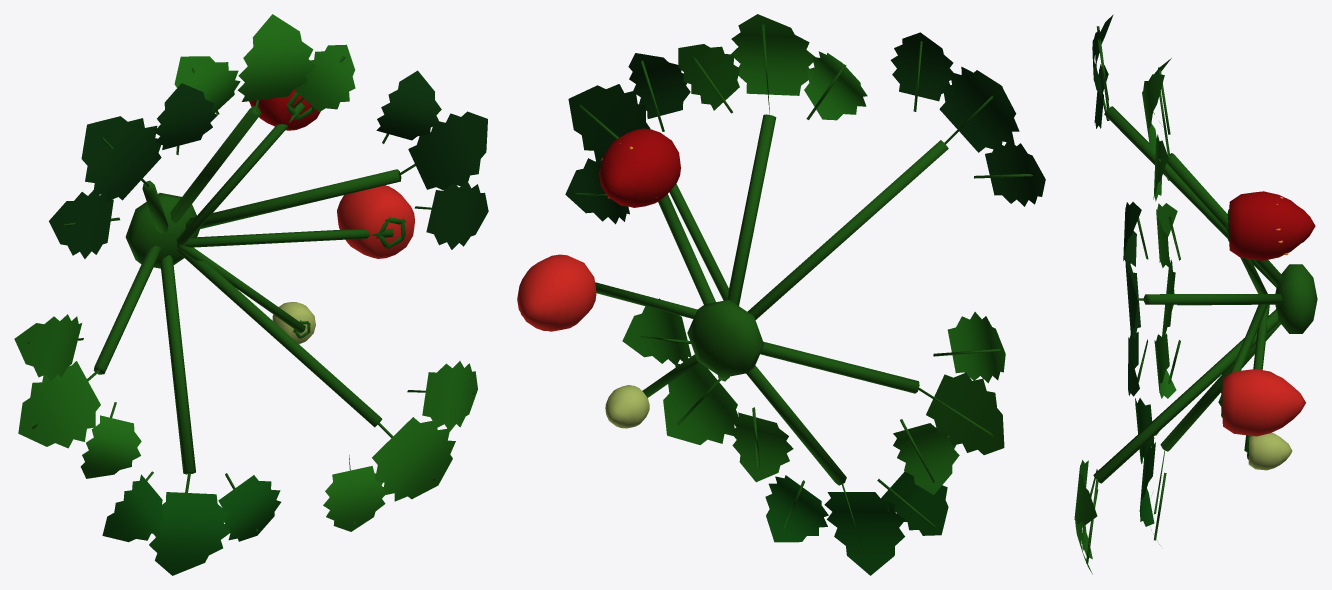
File: plant_variant_09.obj
3 views of the same model, side by side, from view 1: azimuth 30°, elevation 25°; view 2: azimuth 150°, elevation 25°; view 3: azimuth 270°, elevation 25° (orthographic). The views are drawn at different scales.
Visible parts, largest first — view 1: field_export_plant_variant_09; view 2: field_export_plant_variant_09; view 3: field_export_plant_variant_09.
Boxes of the visible parts, x1,y1,x2,y2 form: field_export_plant_variant_09: (14, 14, 488, 575); field_export_plant_variant_09: (517, 14, 1045, 575); field_export_plant_variant_09: (1074, 14, 1317, 574).
Size of the model in its own units: 0.5688 by 0.6332 by 0.281.
